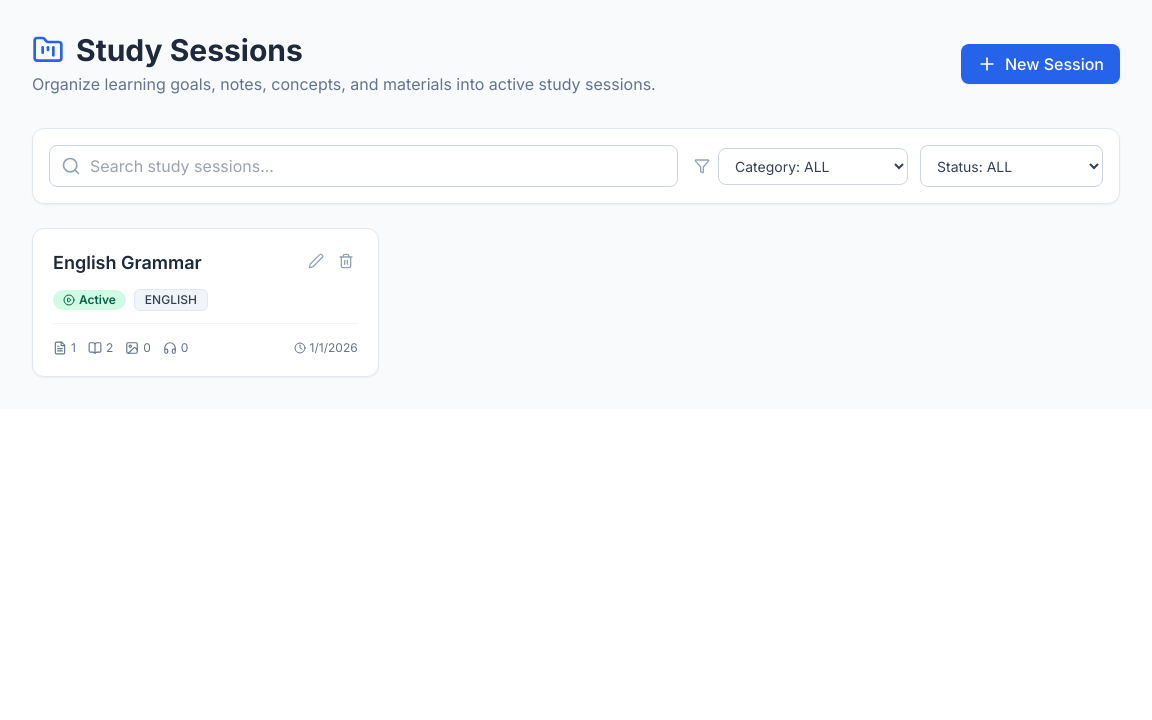
Test case: StudySessionsPage › clicking a session card fetches and shows its detail
Step 1. Click the heading "English Grammar" → {"x": 127, "y": 263}, box left=53, top=249, right=202, bottom=277
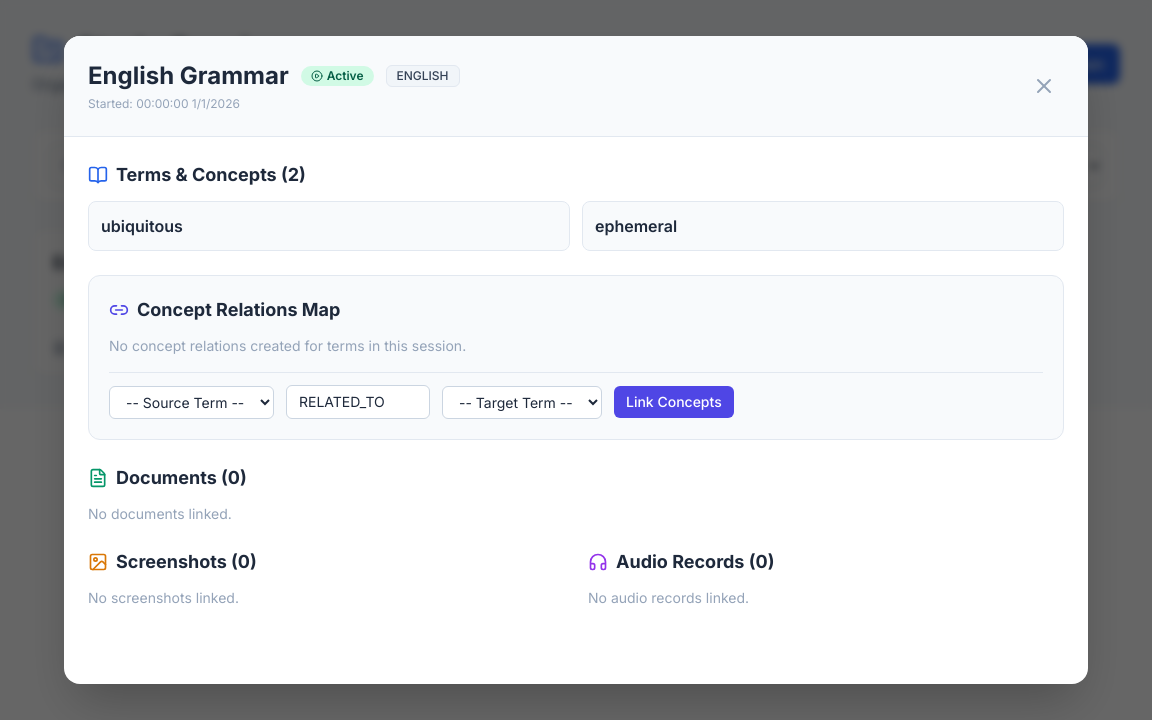
Check: the heading "Terms & Concepts (2)" is shown, box left=88, top=164, right=306, bottom=185
Check: the text "ubiquitous" is shown, box left=101, top=216, right=183, bottom=236
